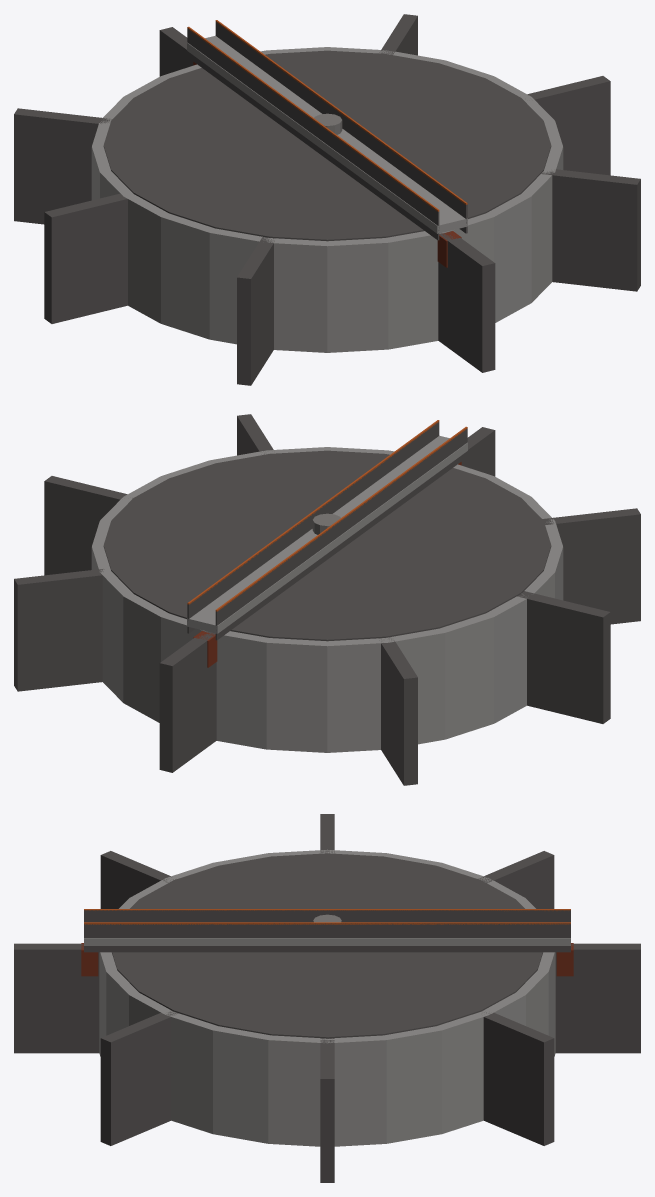
The model's file is B_thickener.glb.
3 views of the same model, one above another, from view 1: azimuth 30°, elevation 25°; view 2: azimuth 150°, elevation 25°; view 3: azimuth 270°, elevation 25° (orthographic). The views are drawn at different scales.
Visible parts, largest first — view 1: Cylinder.001, Cylinder, MCDCX_h.004, MCDCX_h.009, MCDCX_h.008, MCDCX_h.003, MCDCX_h.001, MCDCX_h.005, Cube, MCDCX_h.010, MCDCX_h.002, MCDCX_h.007 (+3 smaller); view 2: Cylinder.001, Cylinder, MCDCX_h.006, MCDCX_h.009, MCDCX_h.010, MCDCX_h.007, MCDCX_h.001, MCDCX_h.005, Cube, MCDCX_h.008, MCDCX_h.002, MCDCX_h.003 (+3 smaller); view 3: Cylinder.001, Cylinder, MCDCX_h.002, MCDCX_h.003, MCDCX_h.007, MCDCX_h.004, MCDCX_h.006, MCDCX_h.001, Cube, MCDCX_h.008, MCDCX_h.010, MCDCX_h.005 (+3 smaller).
Part boxes in pixels (left/top/right/bottom): Cylinder.001: left=103, top=50, right=551, bottom=241; Cylinder: left=91, top=47, right=563, bottom=352; MCDCX_h.004: left=541, top=169, right=640, bottom=291; MCDCX_h.009: left=44, top=193, right=127, bottom=323; MCDCX_h.008: left=14, top=108, right=111, bottom=224; MCDCX_h.003: left=438, top=231, right=495, bottom=372; MCDCX_h.001: left=187, top=29, right=439, bottom=240; MCDCX_h.005: left=527, top=76, right=610, bottom=175; Cube: left=187, top=35, right=467, bottom=233; MCDCX_h.010: left=237, top=237, right=274, bottom=385; MCDCX_h.002: left=215, top=22, right=467, bottom=233; MCDCX_h.007: left=159, top=27, right=193, bottom=76; Cylinder.001: left=103, top=450, right=551, bottom=641; Cylinder: left=91, top=447, right=563, bottom=752; MCDCX_h.006: left=14, top=569, right=104, bottom=691; MCDCX_h.009: left=517, top=591, right=610, bottom=723; MCDCX_h.010: left=542, top=508, right=640, bottom=624; MCDCX_h.007: left=159, top=631, right=216, bottom=772; MCDCX_h.001: left=215, top=428, right=467, bottom=640; MCDCX_h.005: left=44, top=476, right=132, bottom=575; Cube: left=187, top=435, right=467, bottom=633; MCDCX_h.008: left=379, top=637, right=417, bottom=785; MCDCX_h.002: left=187, top=422, right=439, bottom=633; MCDCX_h.003: left=461, top=427, right=495, bottom=476; Cylinder.001: left=112, top=853, right=542, bottom=1038; Cylinder: left=99, top=849, right=555, bottom=1146; MCDCX_h.002: left=84, top=923, right=570, bottom=952; MCDCX_h.003: left=14, top=943, right=99, bottom=1053; MCDCX_h.007: left=555, top=943, right=640, bottom=1053; MCDCX_h.004: left=100, top=1010, right=178, bottom=1145; MCDCX_h.006: left=483, top=1012, right=554, bottom=1145; MCDCX_h.001: left=84, top=910, right=570, bottom=922; Cube: left=84, top=938, right=570, bottom=945; MCDCX_h.008: left=478, top=851, right=554, bottom=908; MCDCX_h.010: left=100, top=851, right=175, bottom=908; MCDCX_h.005: left=320, top=1038, right=334, bottom=1182.
Size of the model in its own units: 21.9 by 5.23 by 21.9.
